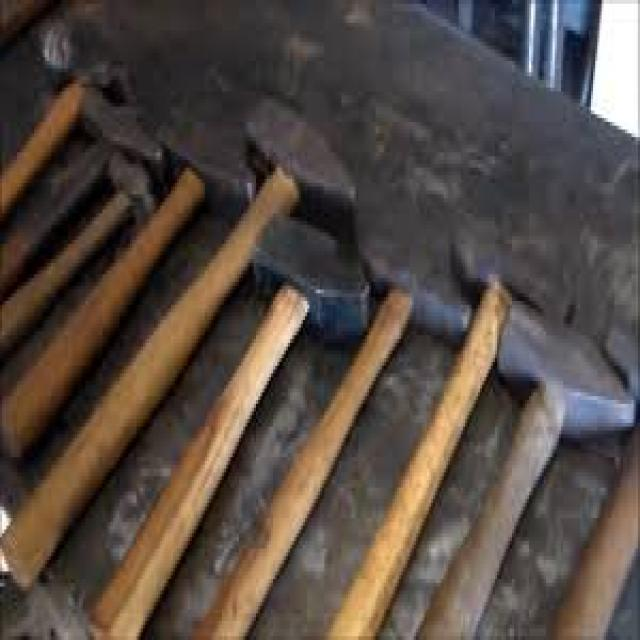hammer: (0, 87, 365, 614), (83, 205, 373, 640), (185, 228, 473, 640), (319, 225, 556, 640), (0, 112, 258, 470), (413, 289, 637, 640), (0, 78, 173, 299), (0, 150, 164, 363), (0, 12, 137, 228)
